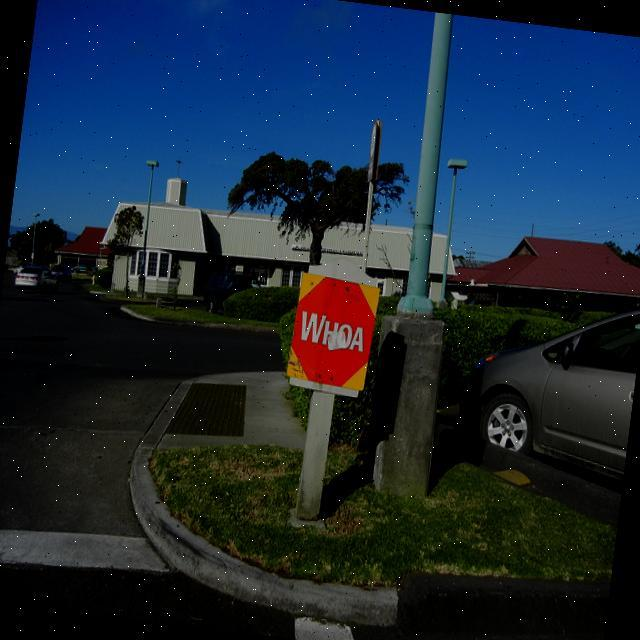fire_hydrant: (90, 273, 96, 284)
